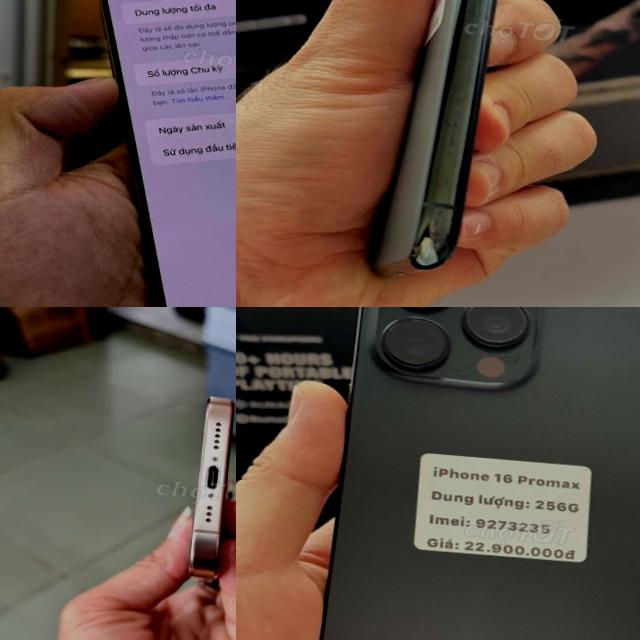gen_11: (362, 0, 535, 296)
gen_16: (321, 307, 640, 640), (23, 0, 236, 307), (189, 396, 234, 581)
